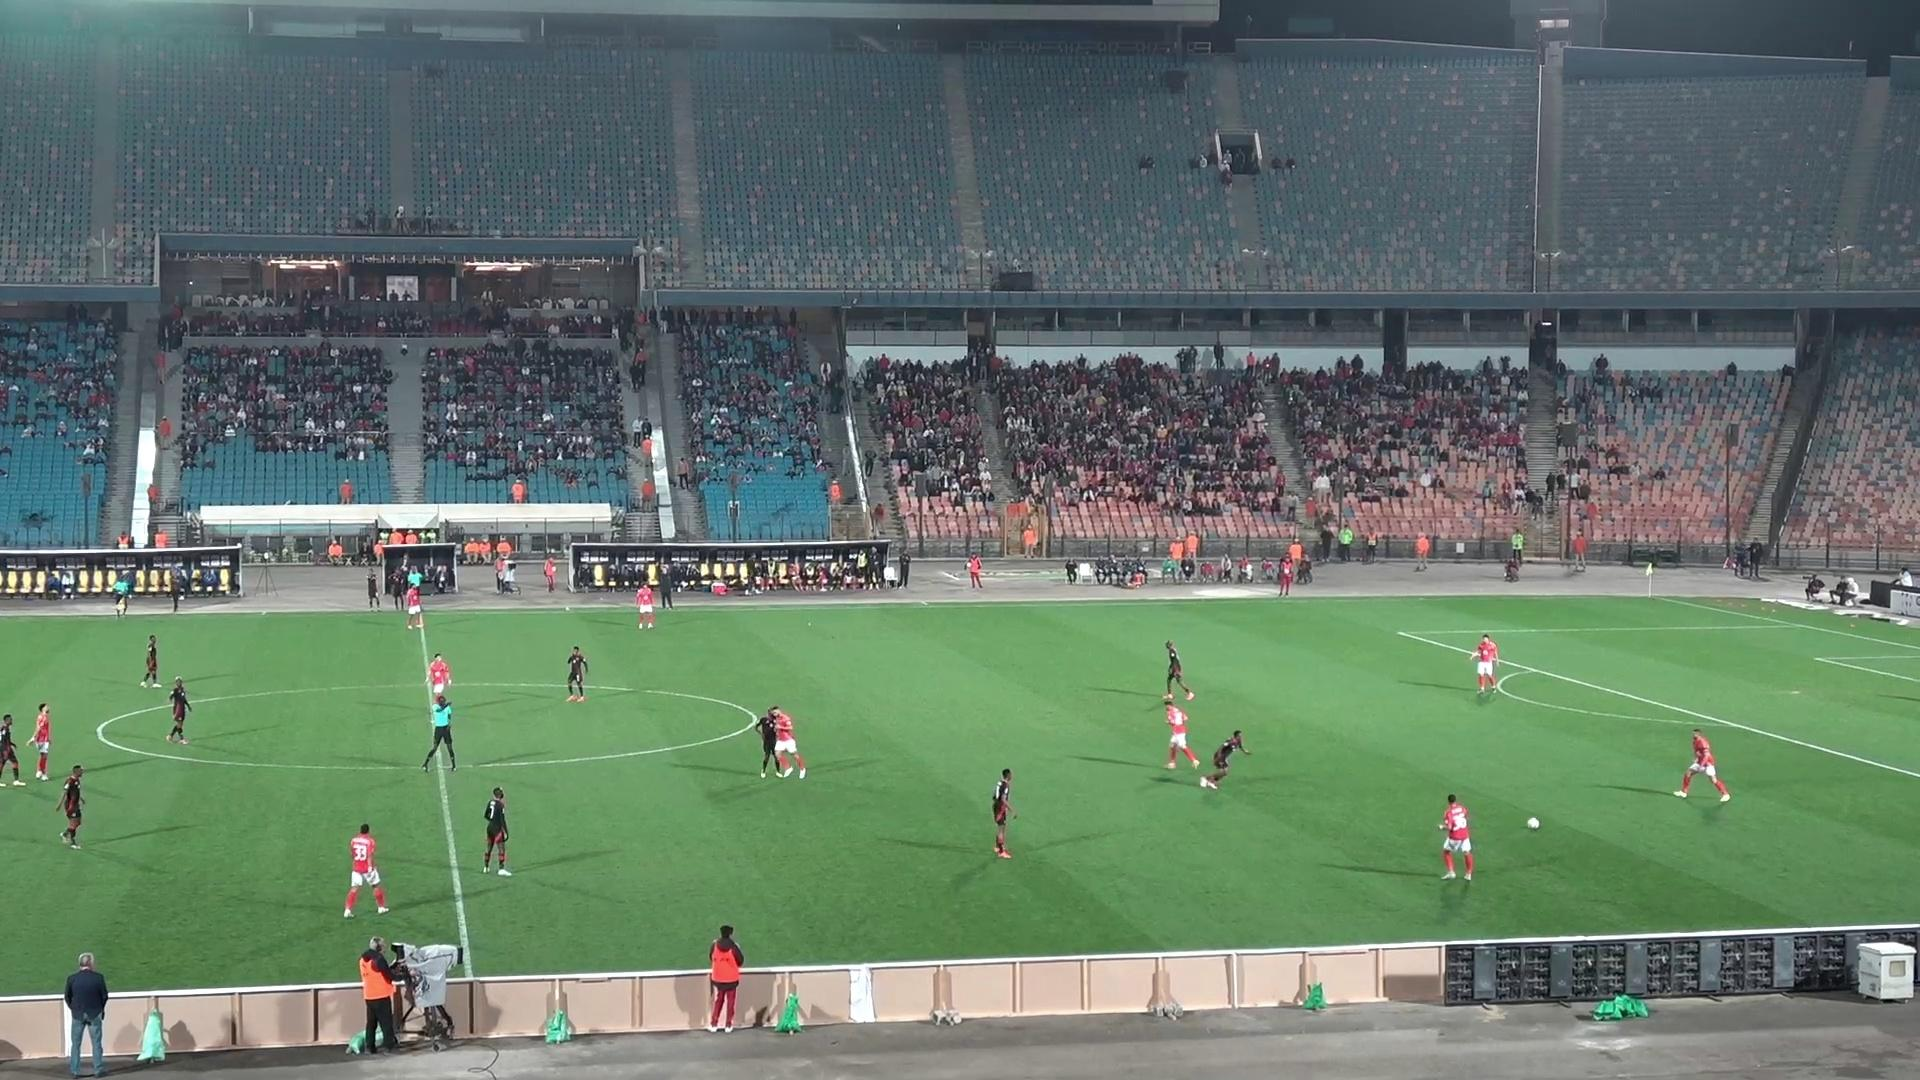Ball: (1526, 815, 1540, 831)
Refree: (422, 691, 458, 770)
Team1: (342, 824, 389, 918), (1673, 729, 1731, 800), (754, 705, 806, 775), (1439, 794, 1474, 880), (1163, 694, 1200, 769), (22, 703, 50, 781), (1468, 634, 1501, 698), (427, 653, 454, 705), (636, 583, 661, 629), (404, 585, 425, 630), (9, 756, 26, 785)
Team2: (1199, 731, 1249, 790), (55, 765, 87, 848), (483, 786, 512, 876), (992, 769, 1015, 858), (1163, 641, 1195, 703), (0, 713, 25, 786), (165, 678, 191, 744), (564, 646, 587, 702), (138, 633, 161, 686), (112, 571, 135, 615)
